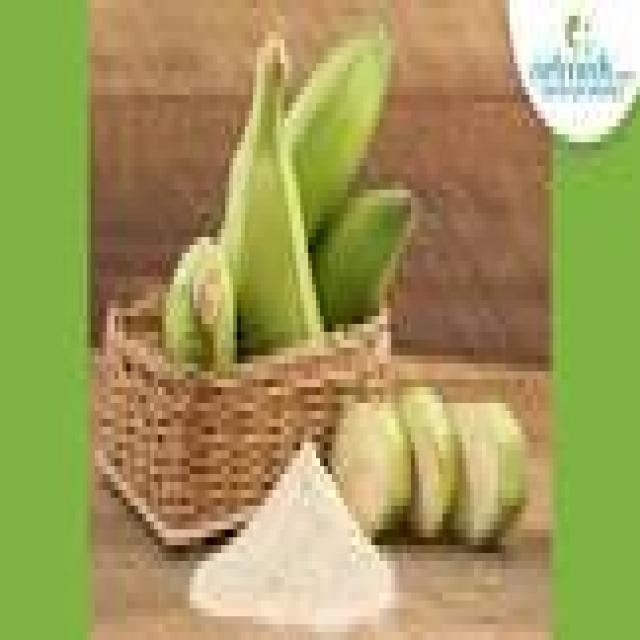banana: (222, 40, 323, 355), (285, 24, 391, 244), (313, 190, 414, 323), (162, 238, 237, 371)
